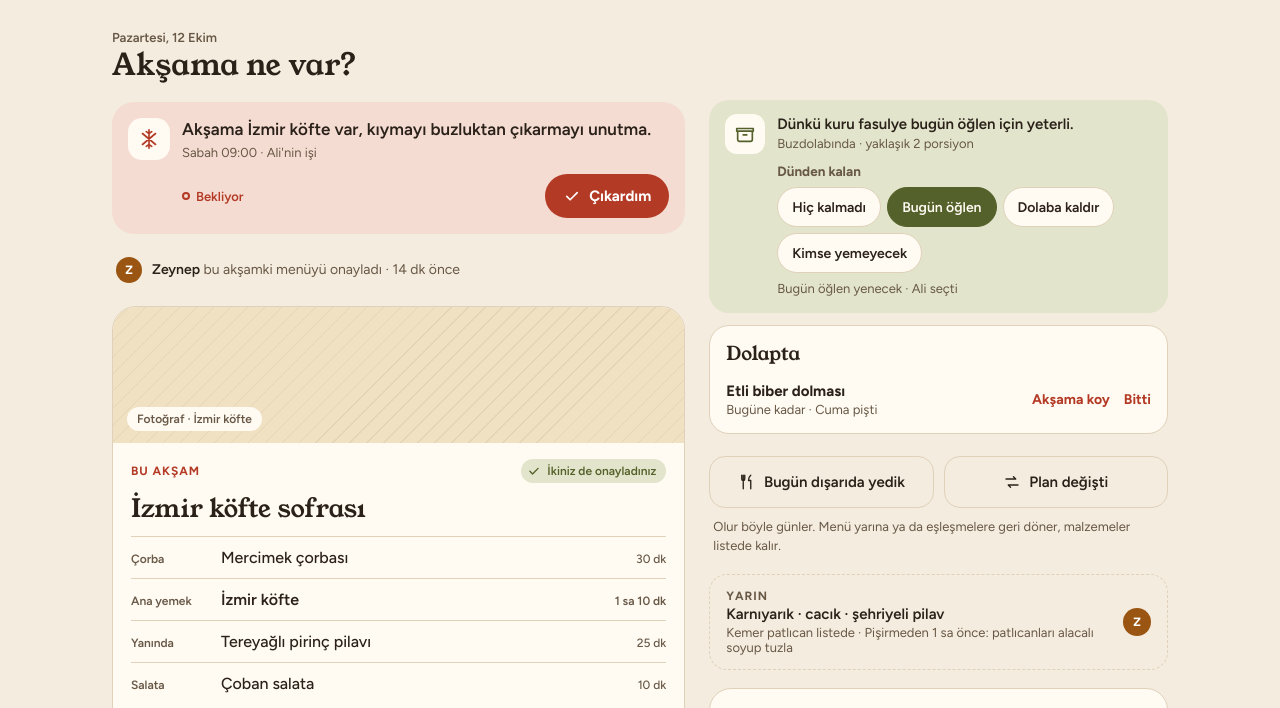
Test case: Bugün › reminder: complete shows who and when, undo brings it back
What coordinates should you click on to do the following:
click the button "Çıkardım"
I would click on:
 (607, 196)
Its box is [545, 174, 669, 218].
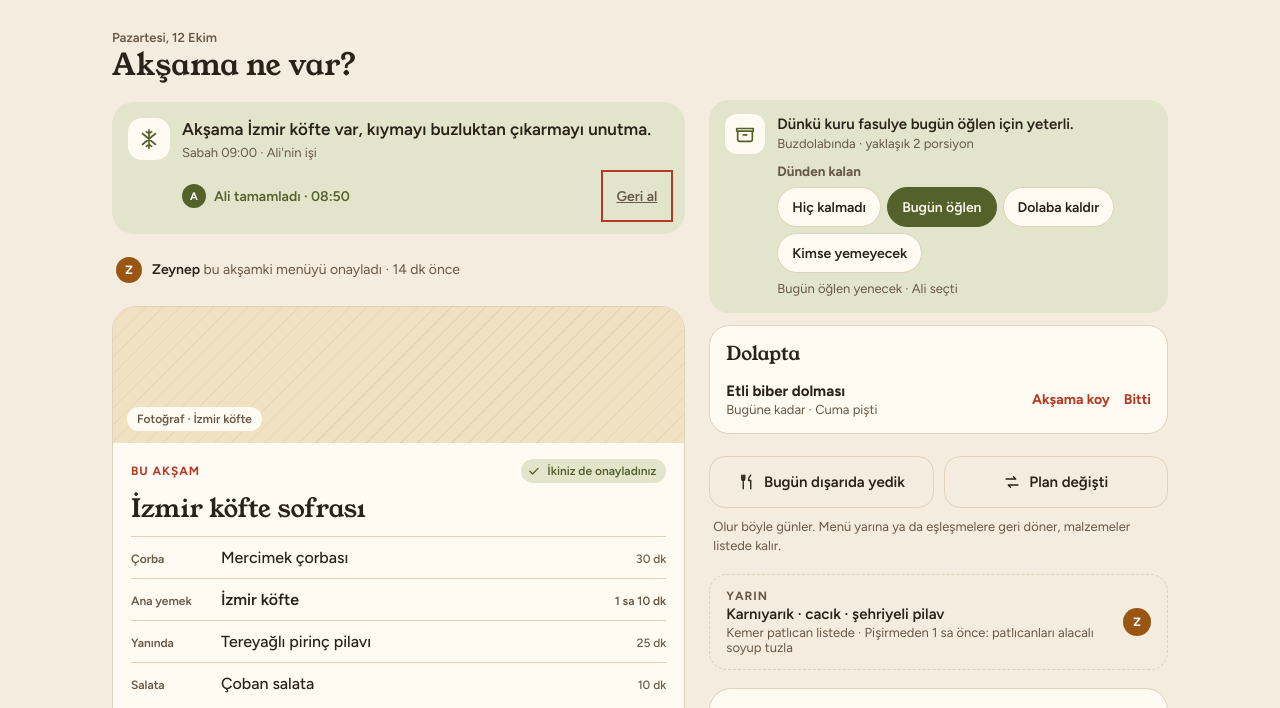
Expected: the message "A Ali tamamladı · 08:50 Geri al" is shown, [128, 174, 669, 218]
What coordinates should you click on to do the following:
click the button "Geri al"
I would click on:
 (637, 196)
Its box is [604, 174, 669, 218].
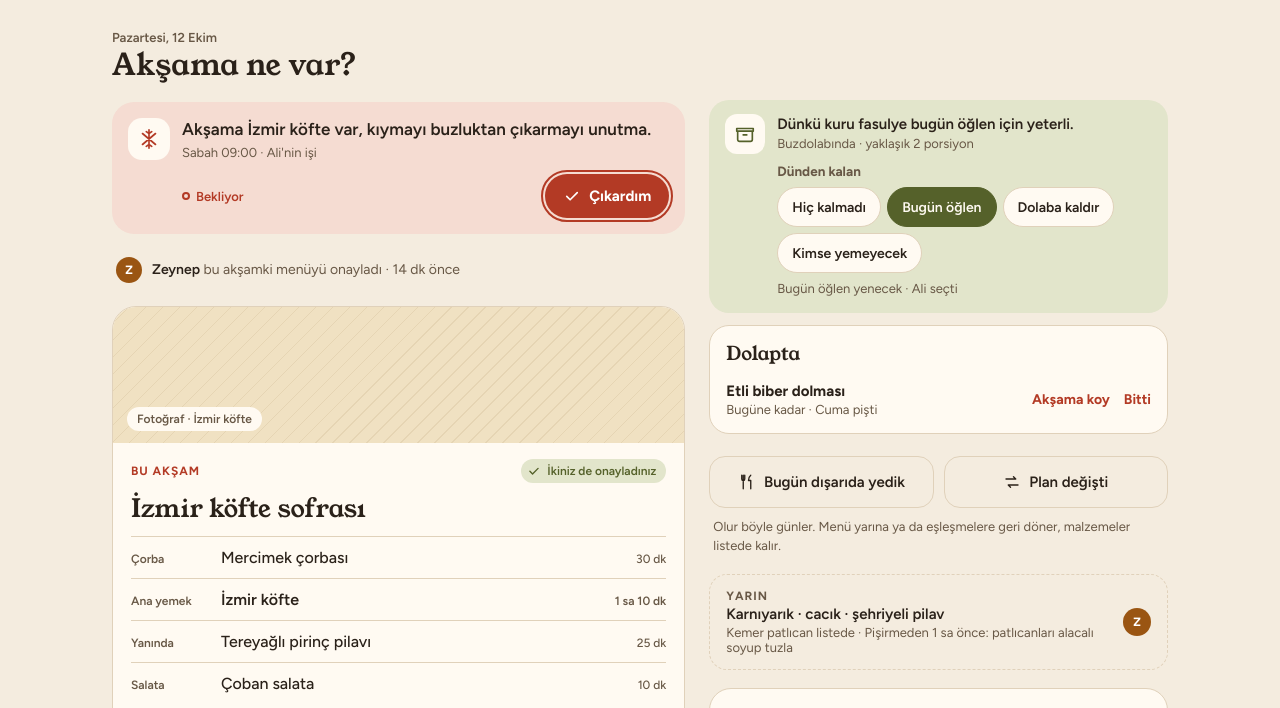
Expected: the text "Bekliyor" is shown, [182, 188, 244, 204]
